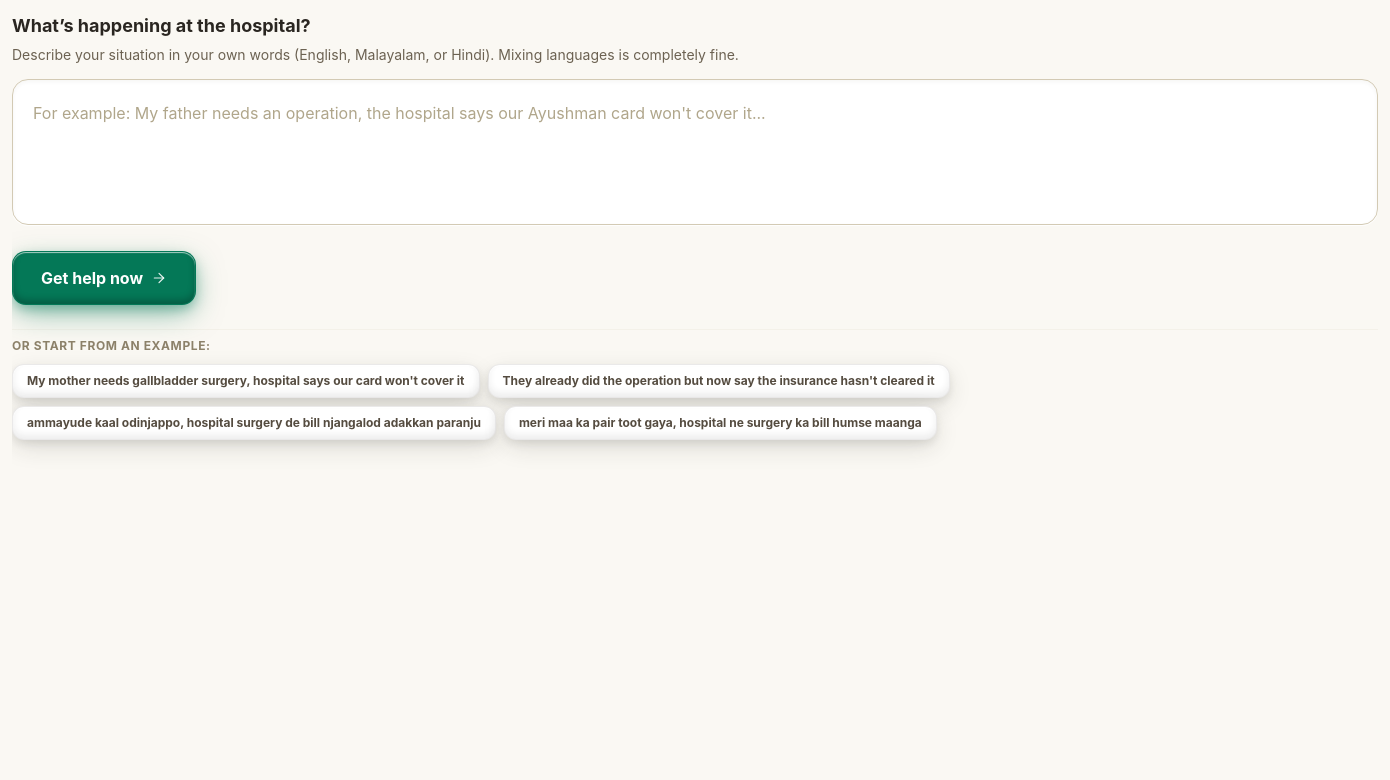
IntakeForm › on a non-ApiError failure, shows a generic message rather than crashing or showing nothing
Type "A description long enough to pass client-side validation." into the text box labelled "What’s happening at the hospital?" at (695, 152), box [12,79,1378,225]
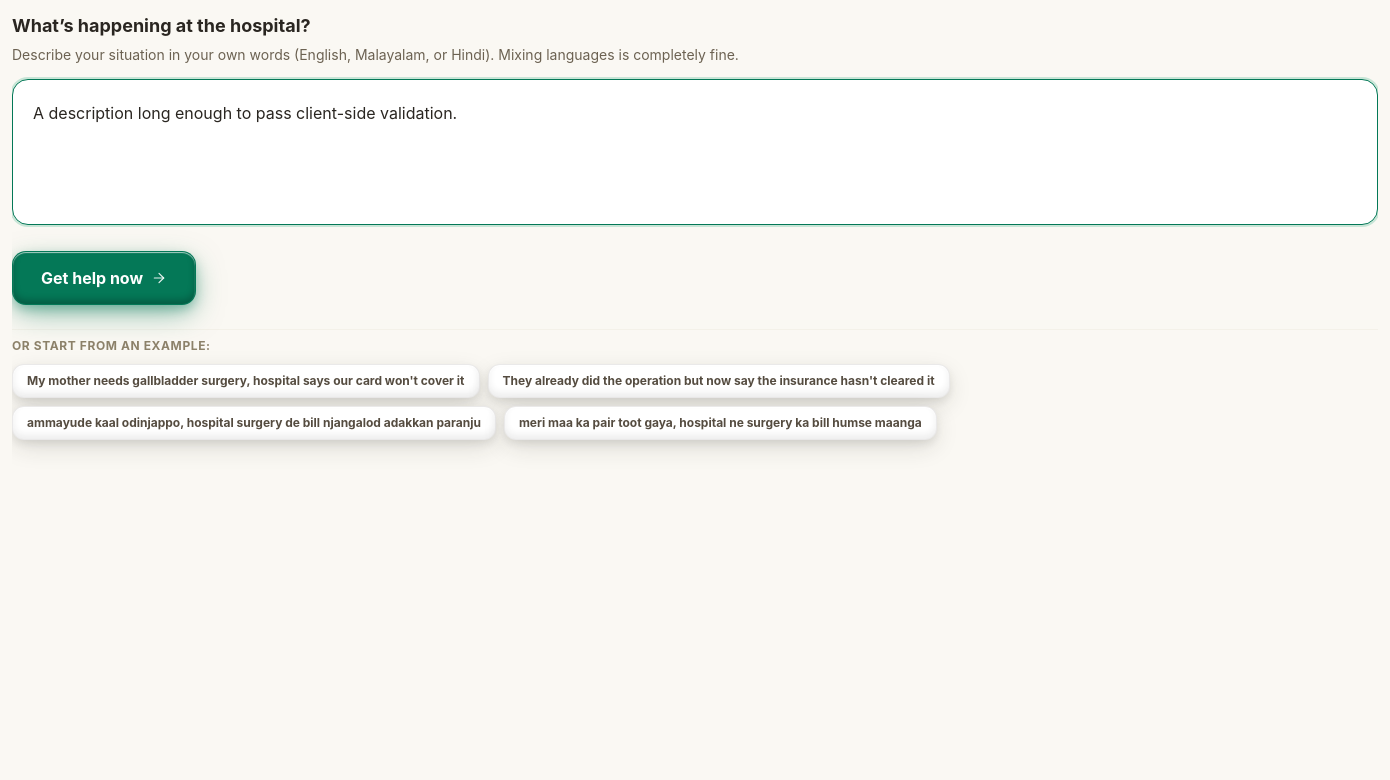
Click the button "Get help now" at (104, 278), box [12,251,196,305]
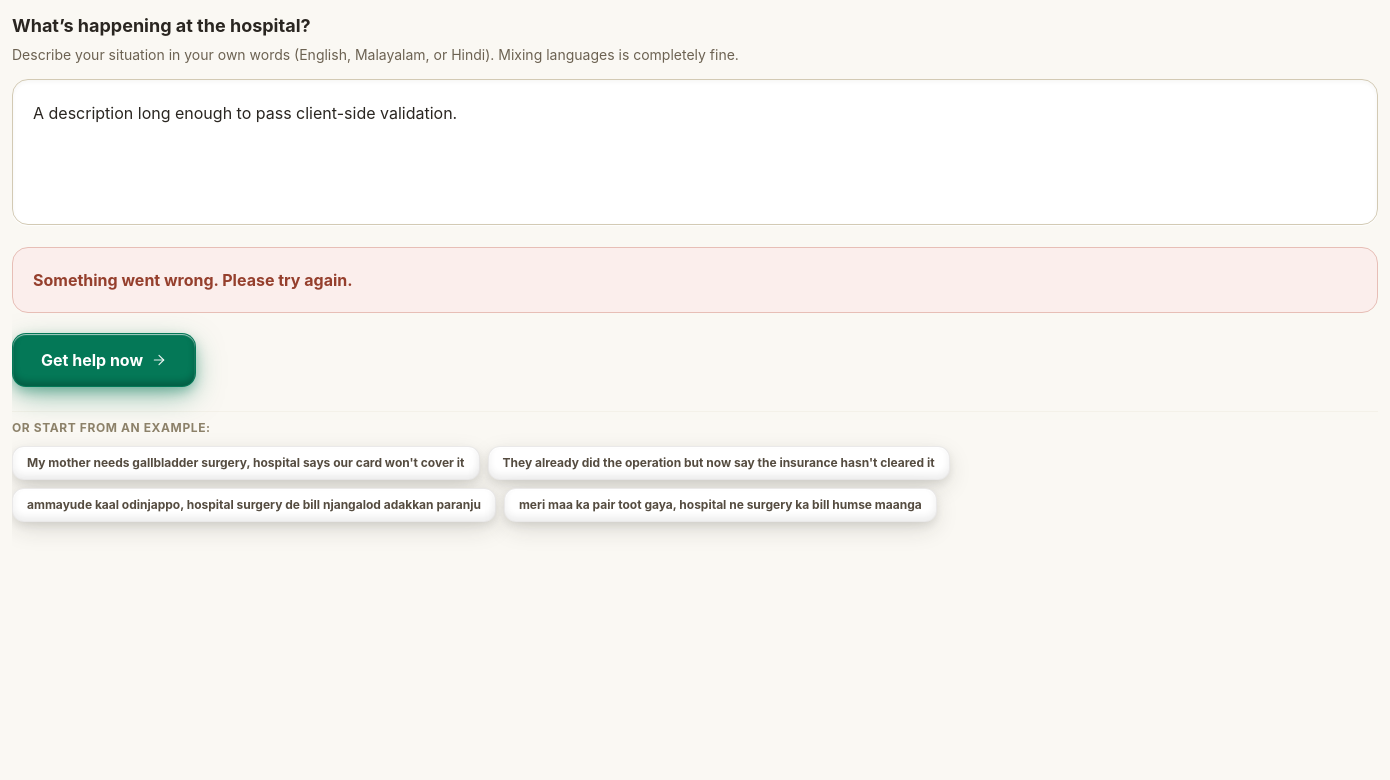
expect the text "Something went wrong. Please try again." is shown: met, box [33,270,353,290]
